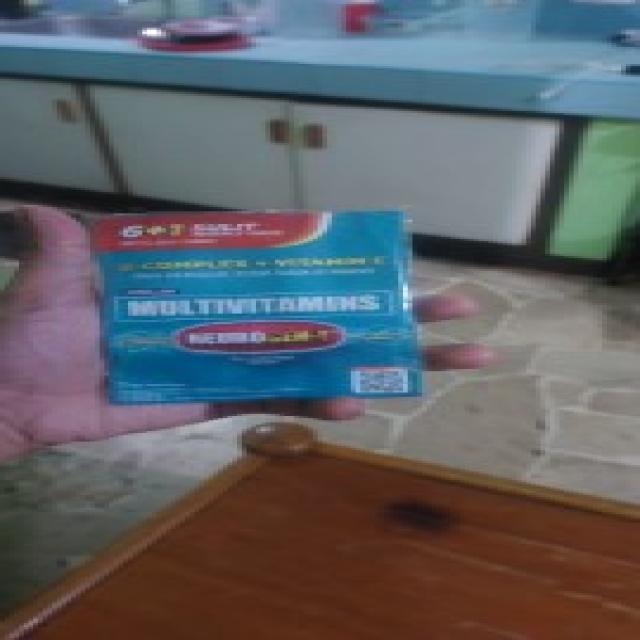Cacat: (92, 208, 426, 404)
